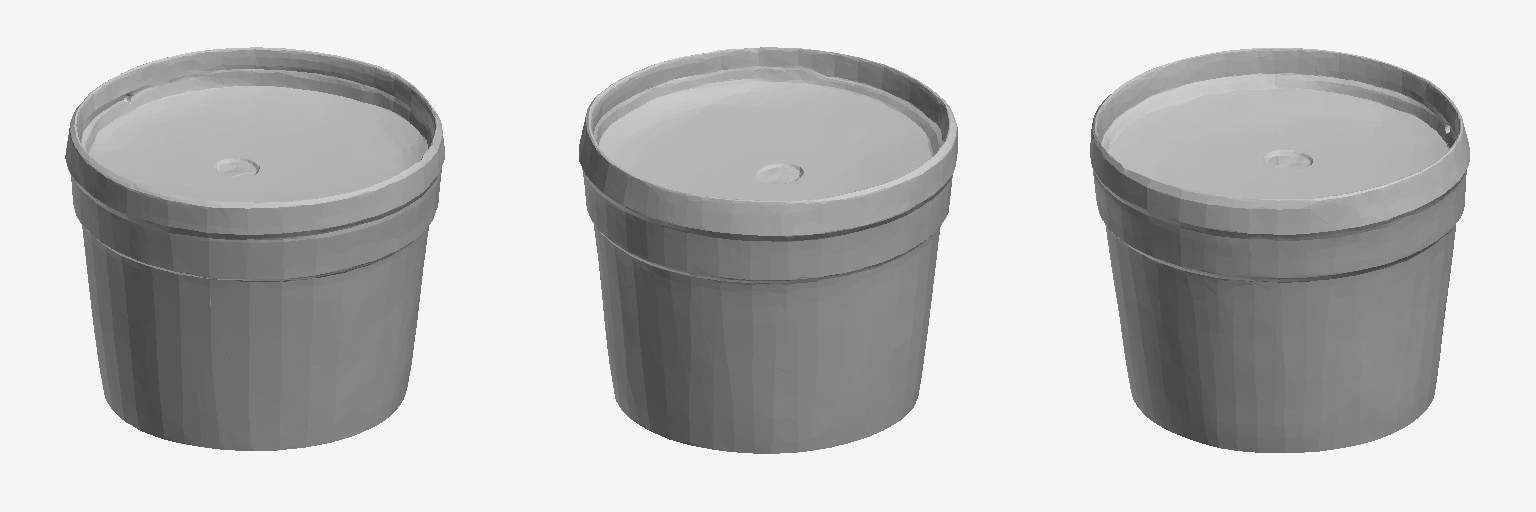
The model's file is styrofoam_can.obj.
3 renders of one model, left to right at view 1: azimuth 30°, elevation 25°; view 2: azimuth 150°, elevation 25°; view 3: azimuth 270°, elevation 25°, orthographic.
Parts seen in each view (by area): view 1: geometry_0; view 2: geometry_0; view 3: geometry_0.
Part boxes in pixels (x1,y1,x2,y2): geometry_0: (65, 47, 444, 450); geometry_0: (579, 47, 957, 453); geometry_0: (1090, 48, 1469, 452).
Bounding box in the file's own units: 0.6304 × 0.49 × 0.634.